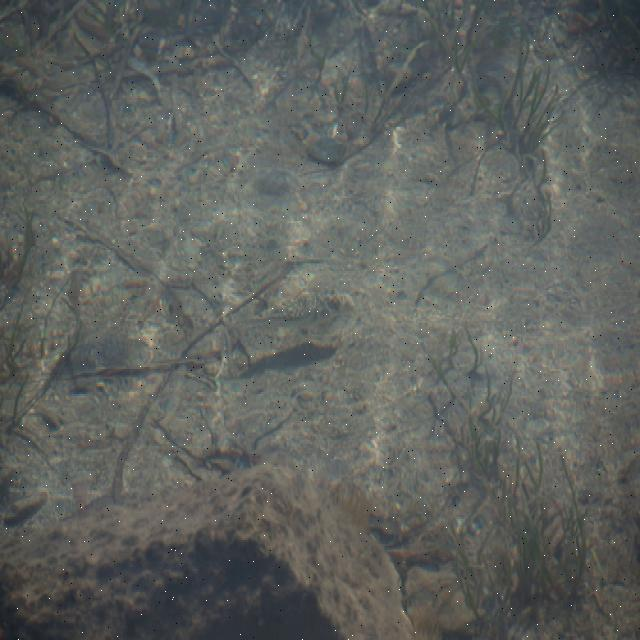Balik: (229, 290, 353, 352)
